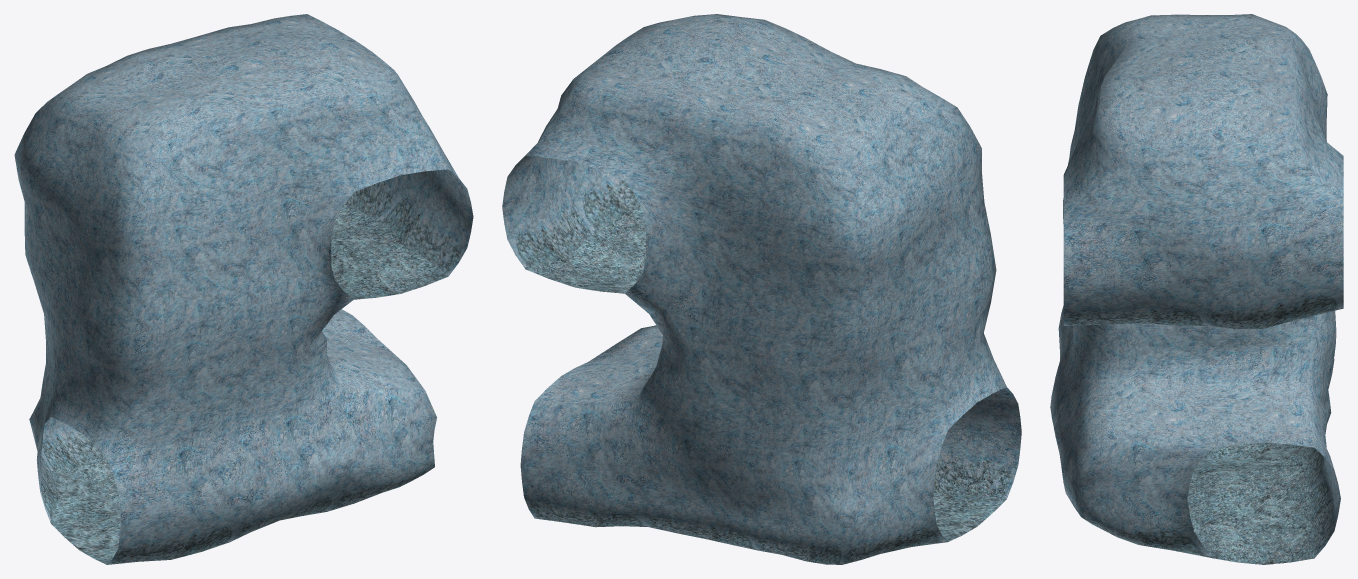
Rendered from thm_all_cave_flatland_s03_ice_r16_r16.fbx.
3 views of the same model, side by side, from view 1: azimuth 30°, elevation 25°; view 2: azimuth 150°, elevation 25°; view 3: azimuth 270°, elevation 25° (orthographic). The views are drawn at different scales.
Visible parts, largest first — view 1: mesh_node; view 2: mesh_node; view 3: mesh_node.
Part boxes in pixels (x1,y1,x2,y2): mesh_node: (14,14,473,564); mesh_node: (502,14,1021,564); mesh_node: (1050,14,1343,564).
Bounding box in the file's own units: 27.39 × 31.62 × 19.23.
